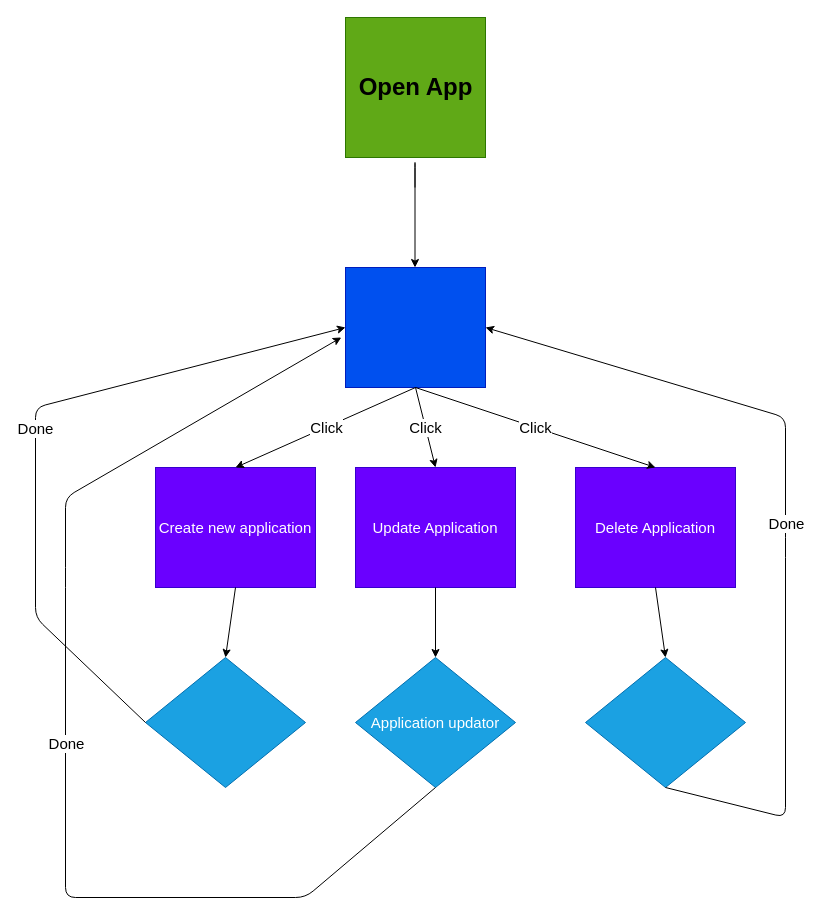
Some shapes in this 821 by 923 pixel diagram are drawn without their labels. The centre of each missing label's shape, as x and y in pixels:
"Confirmation" belongs at pixel 665 722.
"New application creator" belongs at pixel 225 722.
"View application list" belongs at pixel 415 327.
